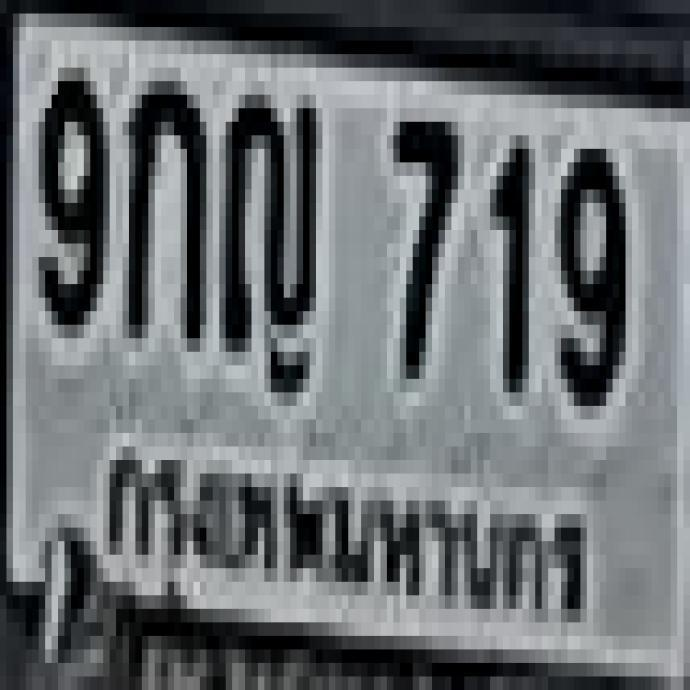1: (487, 125, 526, 379)
7: (388, 112, 452, 368)
9: (34, 57, 101, 324), (553, 137, 621, 392)
A01: (122, 69, 201, 333)
A13: (218, 81, 328, 402)
BKK: (92, 424, 597, 638)
